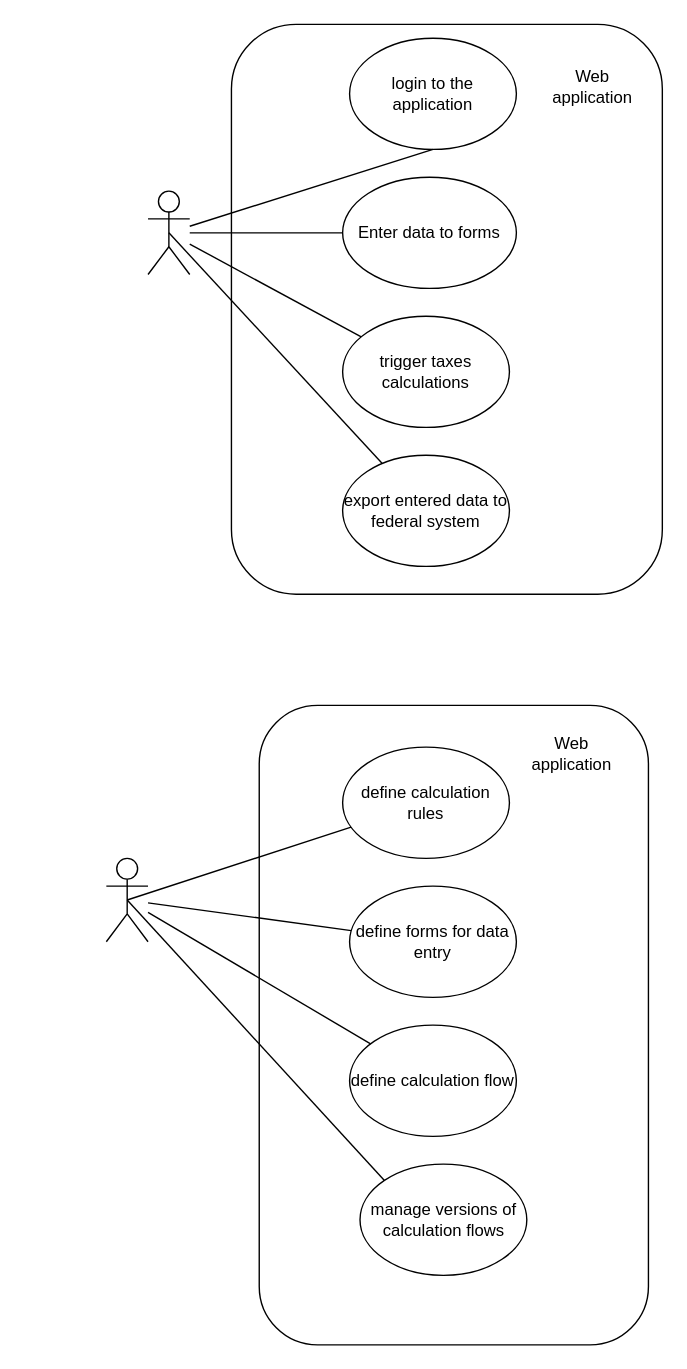
Image size: 687x1369. Some labels were removed from this diagram. Each missing label, with the box of its shape:
Accountant (business adm.): (105, 857, 148, 942)
User: (147, 190, 190, 275)
